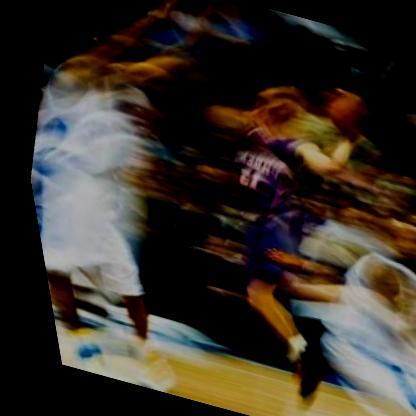basketball: (317, 87, 378, 144)
